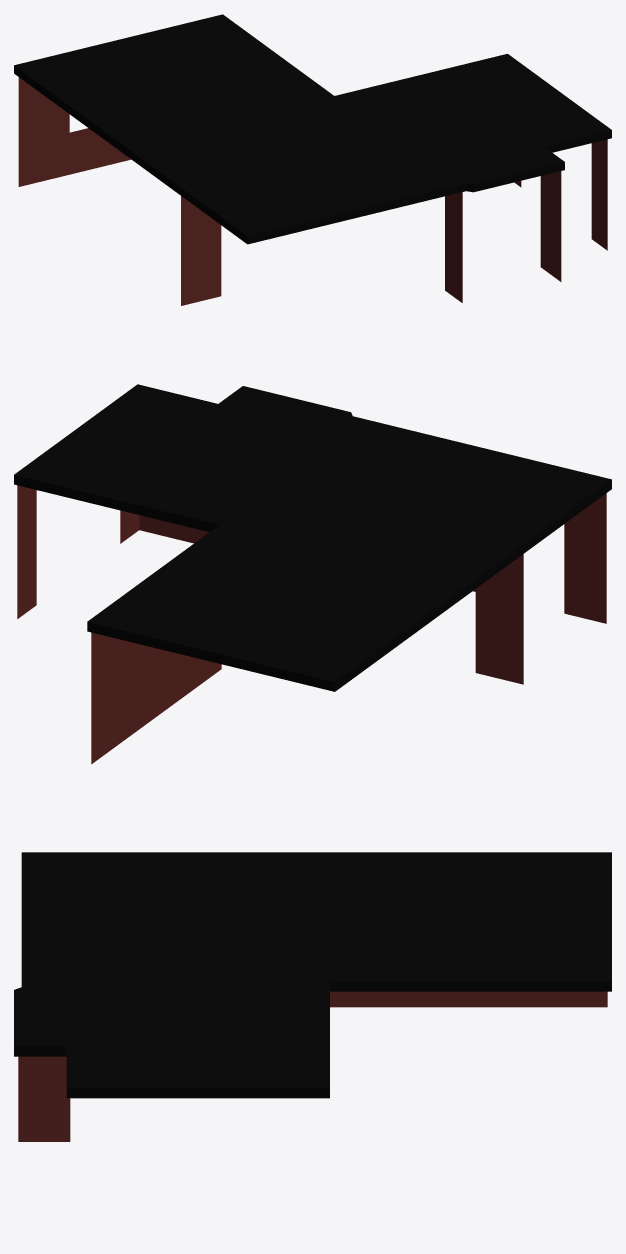
The model's file is Fam_Kitch_Din_Walls.fbx.
3 views of the same model, one above another, from view 1: azimuth 30°, elevation 25°; view 2: azimuth 150°, elevation 25°; view 3: azimuth 270°, elevation 25° (orthographic). The views are drawn at different scales.
Visible parts, largest first — view 1: Fam_Kitch_Din_Walls; view 2: Fam_Kitch_Din_Walls; view 3: Fam_Kitch_Din_Walls.
Boxes of the visible parts, x1,y1,x2,y2 form: Fam_Kitch_Din_Walls: [14, 14, 611, 305]; Fam_Kitch_Din_Walls: [14, 384, 611, 764]; Fam_Kitch_Din_Walls: [14, 852, 611, 1141].
Bounding box in the file's own units: 779 × 236 × 835.
